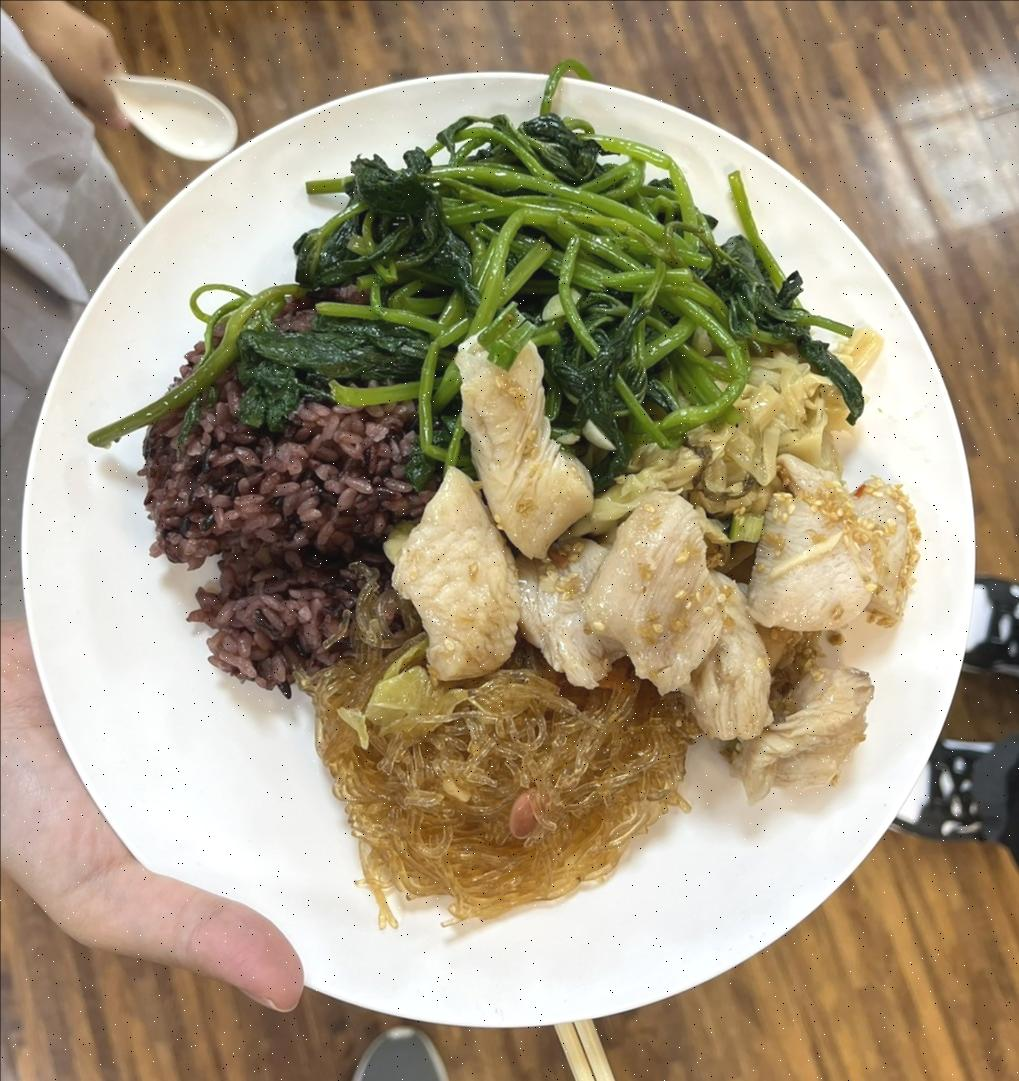plate: (14, 53, 976, 1030)
purple rice: (156, 293, 426, 680)
scallion chicken: (404, 318, 926, 790)
side dish: (191, 99, 862, 393), (314, 616, 672, 922)
